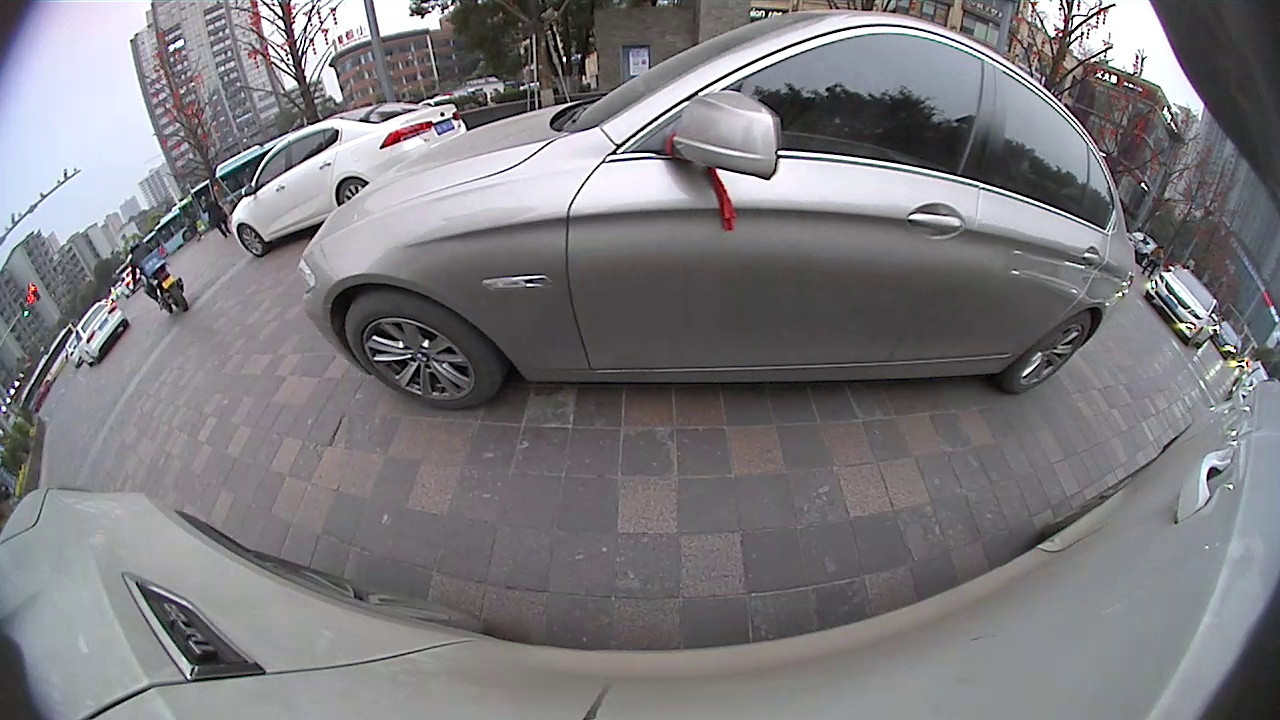car: (301, 4, 1139, 414), (228, 98, 469, 260), (1141, 263, 1223, 352), (70, 296, 129, 363)
front: (340, 292, 507, 416), (235, 223, 267, 260)
rear: (1006, 309, 1094, 397), (337, 177, 368, 213)
rider: (125, 237, 189, 320)
